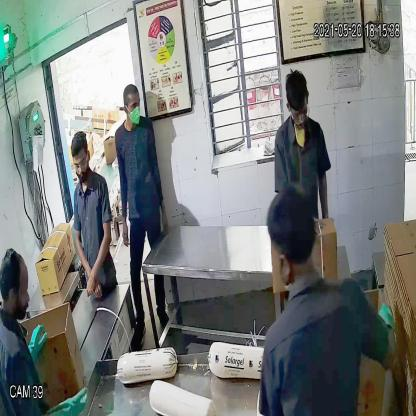goggles: (286, 97, 312, 127), (71, 154, 92, 172)
no_goggles: (121, 97, 145, 117)
